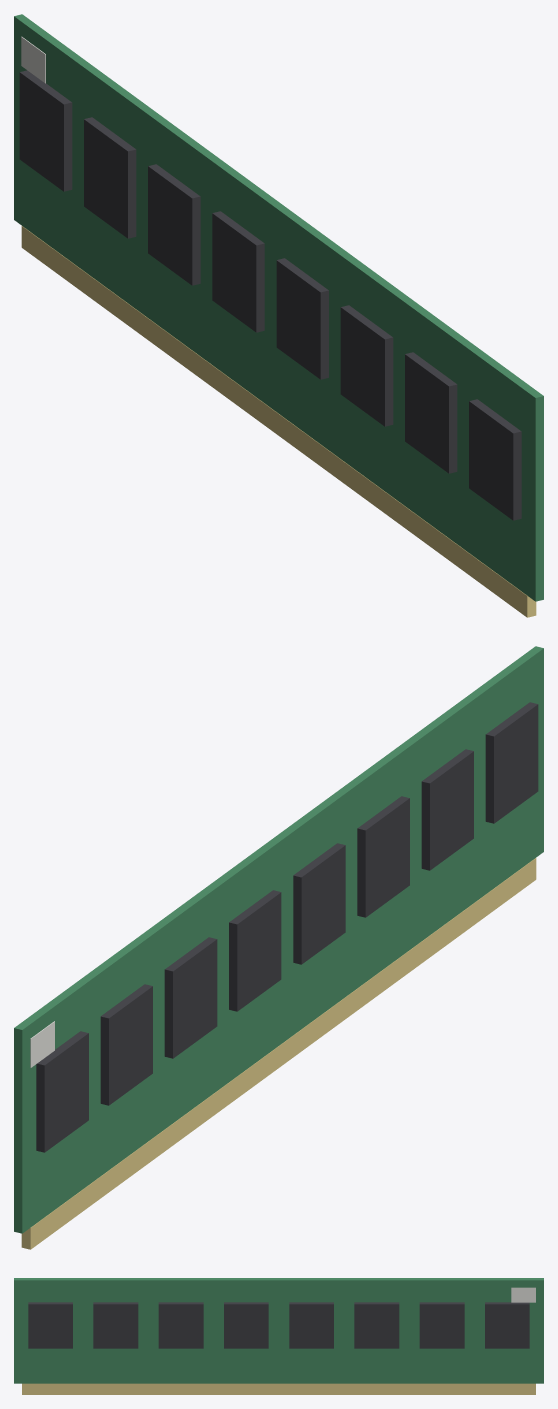
File: dimm.fbx
3 renders of one model, top to bottom at view 1: azimuth 30°, elevation 25°; view 2: azimuth 150°, elevation 25°; view 3: azimuth 270°, elevation 25°, orthographic. The views are drawn at different scales.
Parts seen in each view (by area): view 1: DIMM; view 2: DIMM; view 3: DIMM.
Part boxes in pixels (bbox=[...]): DIMM: bbox=[14, 14, 543, 617]; DIMM: bbox=[14, 646, 543, 1249]; DIMM: bbox=[14, 1278, 543, 1394].
Size of the model in its own units: 0.0036 by 0.031 by 0.13.
